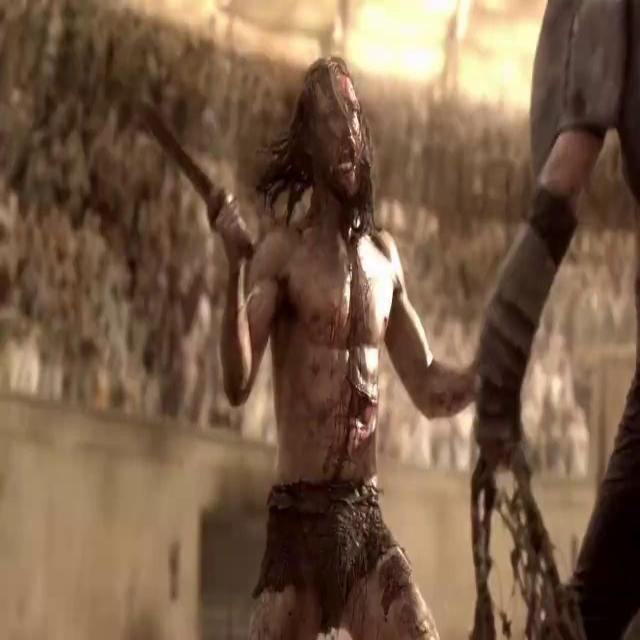flood: (310, 41, 396, 601)
